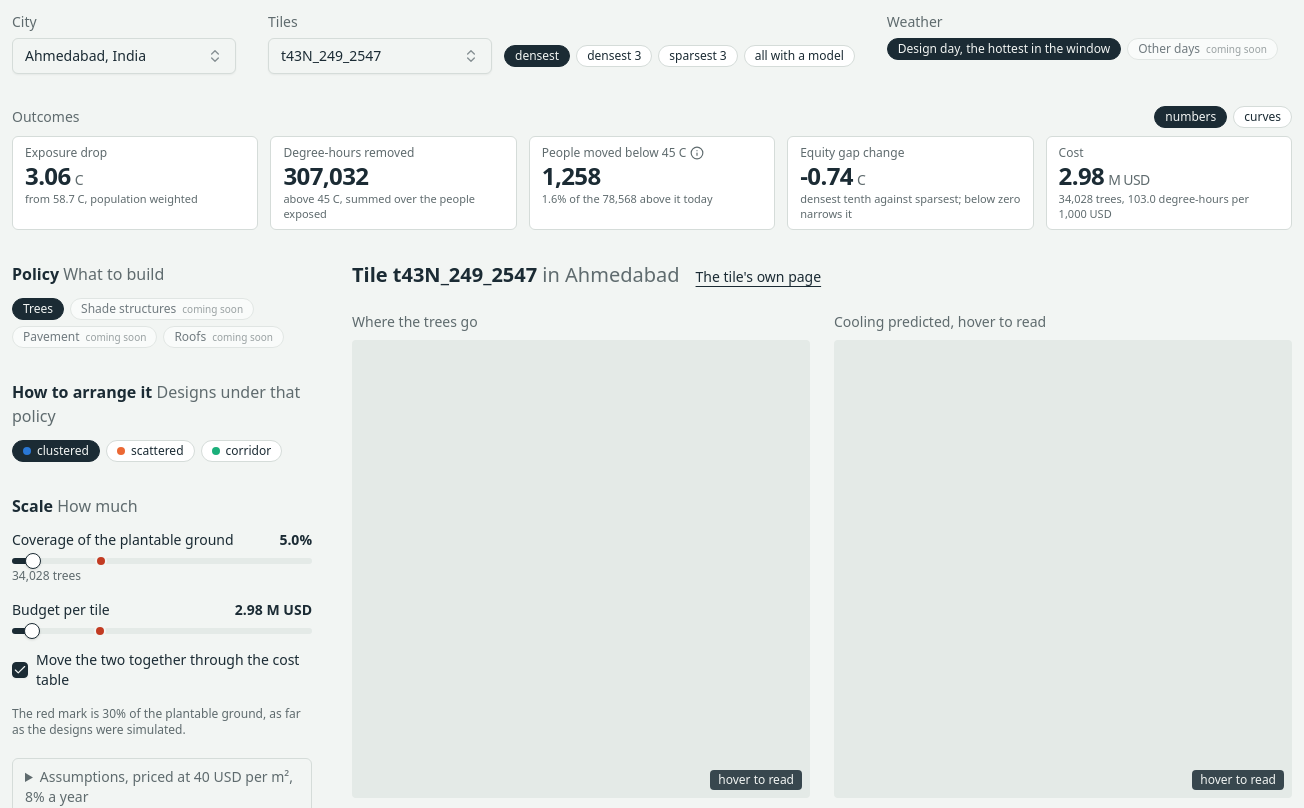
Scenario: opens on the first city with a model and its densest tile, with the outcomes row on top
The width and height of the screenshot is (1304, 808).
Expected: the dropdown named "City" reads "Ahmedabad, India", [12,38,236,74]
Expected: the dropdown named "Tiles" reads "t43N_249_2547", [268,38,492,74]
Focus the button named "How this is counted": (697, 153) [690,146,704,160]
(page scrolled)
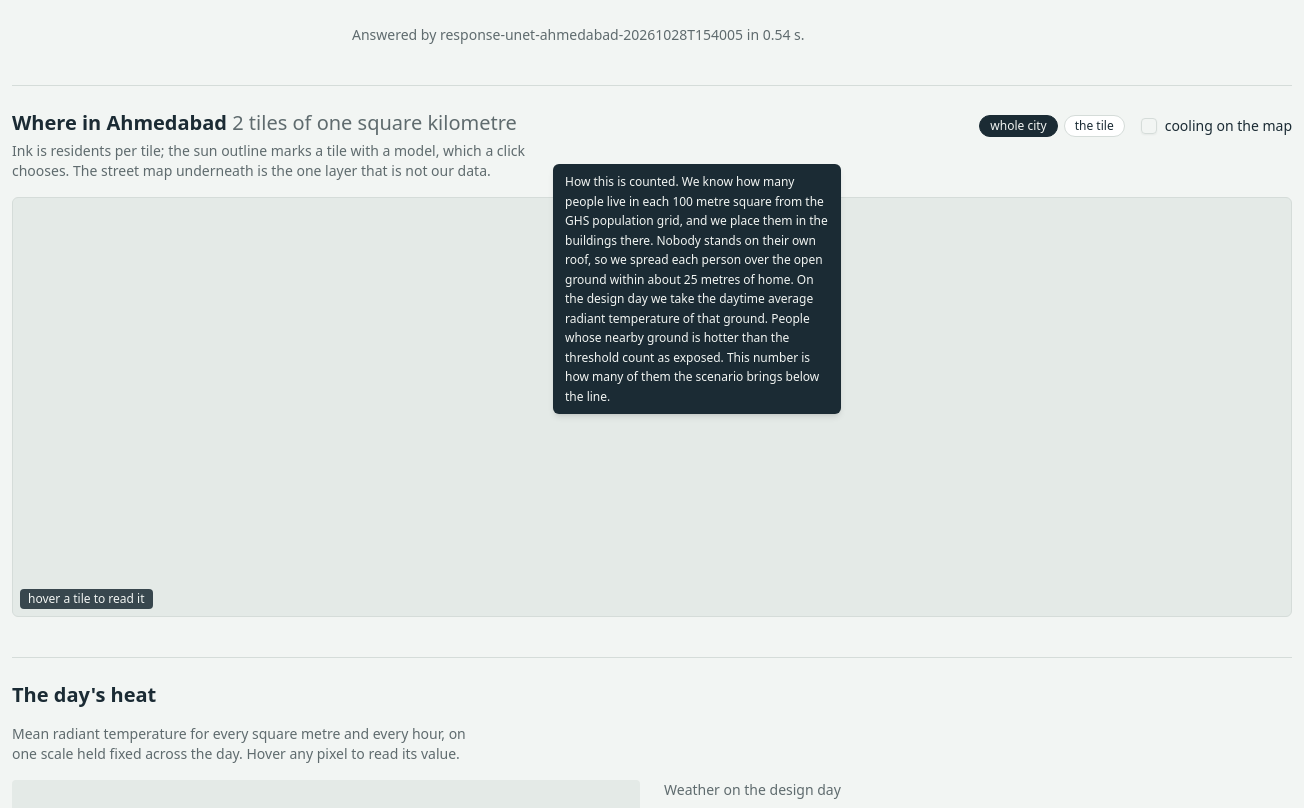
Expected: the heading "The day's heat" is shown, [12,681,156,708]
Expected: the tooltip "spread each person over the open ground" is shown, [565,173,828,404]
